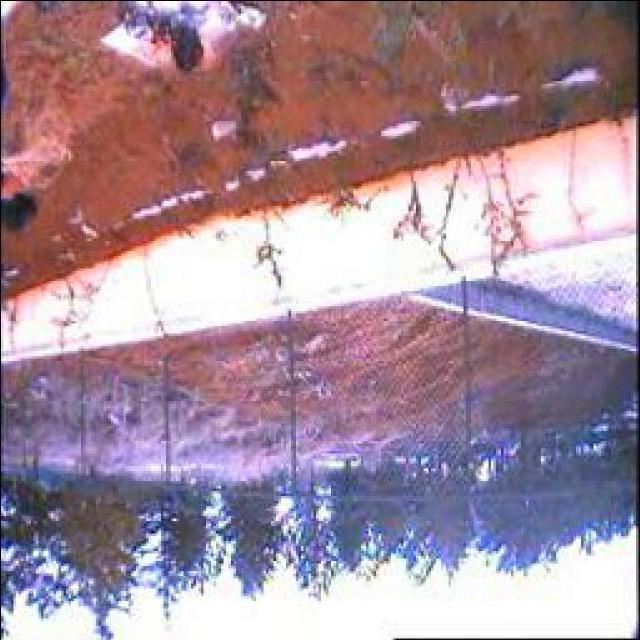Fire: (140, 9, 214, 73)
